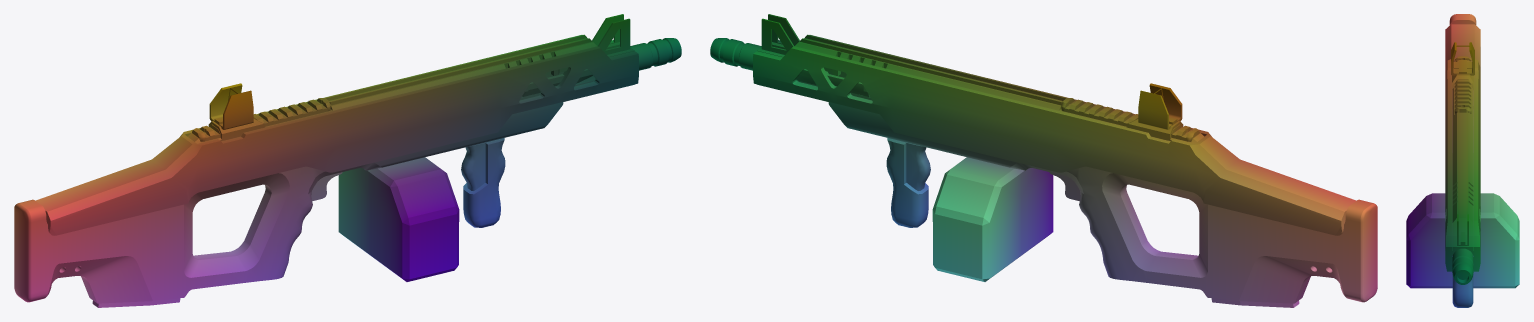
File: gun_heavy.fbx
3 views of the same model, side by side, from view 1: azimuth 30°, elevation 25°; view 2: azimuth 150°, elevation 25°; view 3: azimuth 270°, elevation 25° (orthographic). The views are drawn at different scales.
Visible parts, largest first — view 1: Gun_Heavy; view 2: Gun_Heavy; view 3: Gun_Heavy.
Boxes of the visible parts, x1,y1,x2,y2 form: Gun_Heavy: (14,14,681,307); Gun_Heavy: (710,14,1377,307); Gun_Heavy: (1406,14,1519,307).
Size of the model in its own units: 84.12 by 24.95 by 15.3.
